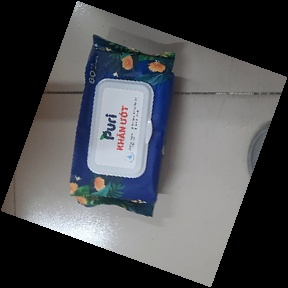Puri Xanh: (67, 33, 177, 220)
